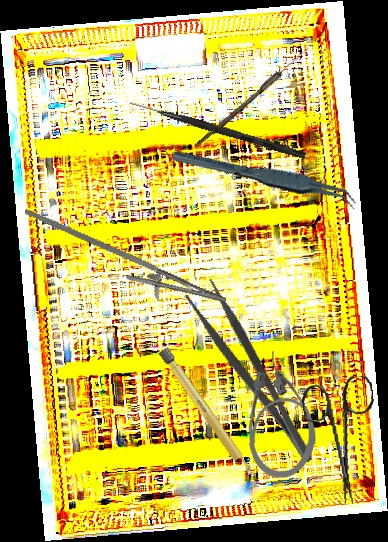Cannula: (246, 350, 318, 480)
Dressing Forceps: (182, 276, 319, 475)
Hook Surgical: (128, 99, 307, 160)
Iris Scissors: (300, 374, 386, 509)
Needle Holder: (11, 208, 235, 319)
Scalpel Handle: (157, 346, 256, 480)
Surgical Spoon: (196, 44, 311, 149)
Tissue Forceps: (171, 129, 360, 226)
